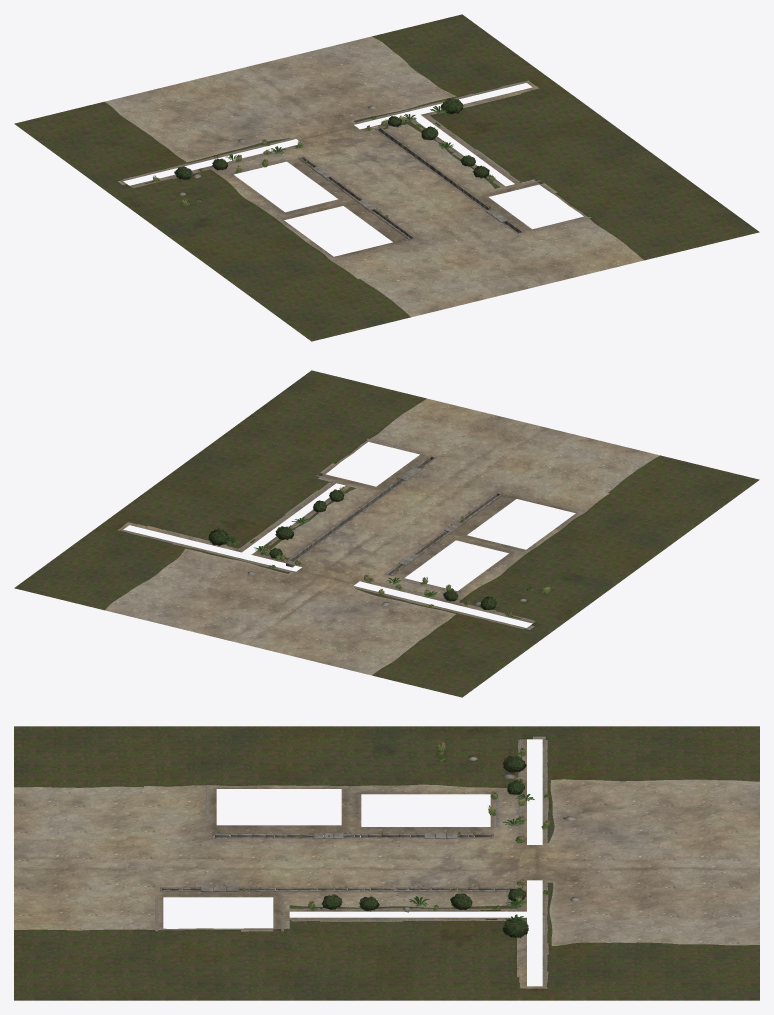
The model's file is ground_v2.glb.
3 renders of one model, top to bottom at view 1: azimuth 30°, elevation 25°; view 2: azimuth 150°, elevation 25°; view 3: azimuth 270°, elevation 25°, orthographic. The views are drawn at different scales.
Parts seen in each view (by area): view 1: ground_terrain, ground_stone, ground_azalea, ground_grass, ground_ditch_bed; view 2: ground_terrain, ground_stone, ground_azalea, ground_grass, ground_ditch_bed; view 3: ground_terrain, ground_stone, ground_azalea, ground_ditch_bed, ground_grass.
Part boxes in pixels (x1=…): ground_terrain: x1=14, y1=14, x2=759, y2=341; ground_stone: x1=178, y1=105, x2=523, y2=240; ground_azalea: x1=174, y1=98, x2=489, y2=179; ground_grass: x1=152, y1=115, x2=495, y2=217; ground_ditch_bed: x1=297, y1=126, x2=524, y2=239; ground_terrain: x1=14, y1=370, x2=759, y2=697; ground_stone: x1=247, y1=456, x2=527, y2=606; ground_azalea: x1=208, y1=489, x2=496, y2=609; ground_grass: x1=261, y1=477, x2=550, y2=617; ground_ditch_bed: x1=286, y1=455, x2=503, y2=575; ground_terrain: x1=14, y1=726, x2=759, y2=1000; ground_stone: x1=160, y1=756, x2=579, y2=912; ground_azalea: x1=321, y1=755, x2=528, y2=937; ground_ditch_bed: x1=160, y1=833, x2=511, y2=891; ground_grass: x1=242, y1=741, x2=550, y2=911.
Size of what is drawn, in the model's own units: 40 by 1.53 by 46.
Materials: 8 (8 with a texture image).
